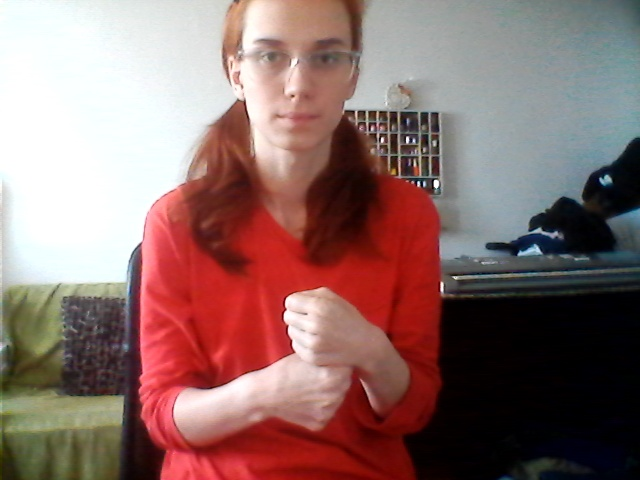g: (265, 284, 363, 437)
